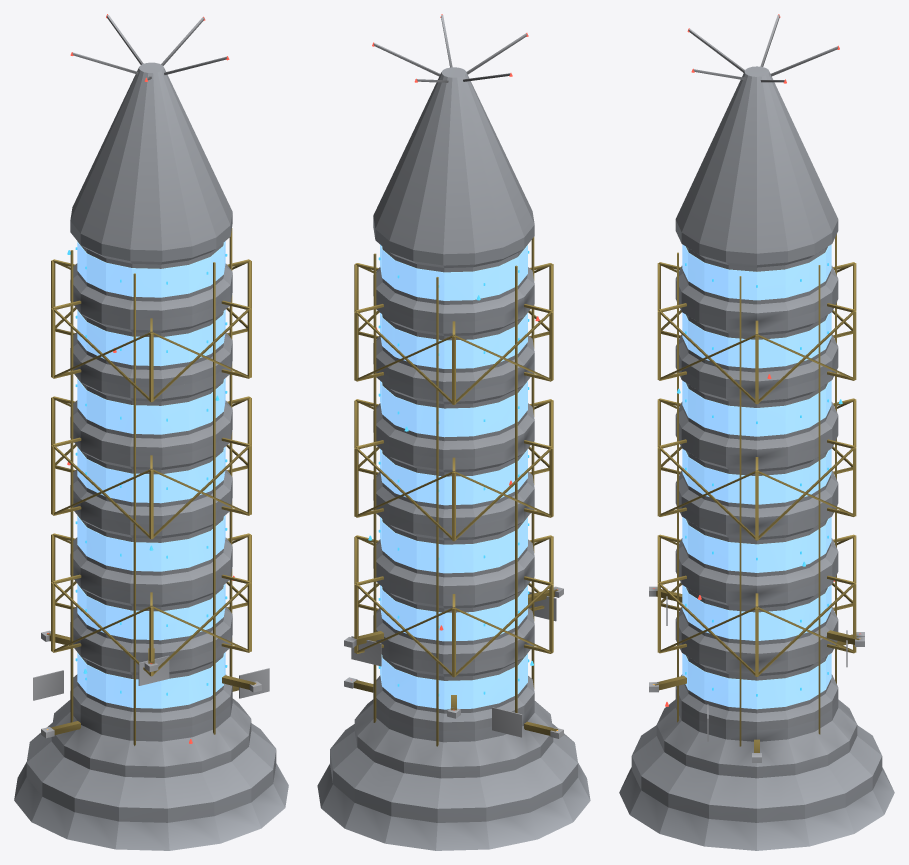
The model's file is 06_drydock_tower.glb.
The picture shows the model from 3 angles, left to right: view 1: azimuth 30°, elevation 25°; view 2: azimuth 150°, elevation 25°; view 3: azimuth 270°, elevation 25°; orthographic projection.
Parts seen in each view (by area): view 1: drydock_tower_shiphull, drydock_tower_window_nocol, drydock_tower_truss_nocol, drydock_tower_steel_nocol; view 2: drydock_tower_shiphull, drydock_tower_window_nocol, drydock_tower_truss_nocol, drydock_tower_steel_nocol; view 3: drydock_tower_shiphull, drydock_tower_window_nocol, drydock_tower_truss_nocol, drydock_tower_steel_nocol.
Boxes of the visible parts, left/top/right/bottom form: drydock_tower_shiphull: left=14, top=62, right=288, bottom=850; drydock_tower_window_nocol: left=77, top=241, right=225, bottom=708; drydock_tower_truss_nocol: left=46, top=228, right=255, bottom=745; drydock_tower_steel_nocol: left=33, top=15, right=269, bottom=738; drydock_tower_shiphull: left=317, top=67, right=590, bottom=850; drydock_tower_window_nocol: left=380, top=244, right=527, bottom=709; drydock_tower_truss_nocol: left=353, top=237, right=558, bottom=746; drydock_tower_steel_nocol: left=344, top=15, right=563, bottom=738; drydock_tower_shiphull: left=619, top=66, right=894, bottom=850; drydock_tower_window_nocol: left=682, top=244, right=831, bottom=709; drydock_tower_truss_nocol: left=654, top=234, right=859, bottom=752; drydock_tower_steel_nocol: left=649, top=15, right=864, bottom=762.
Bounding box in the file's own units: 44 × 131 × 44.
